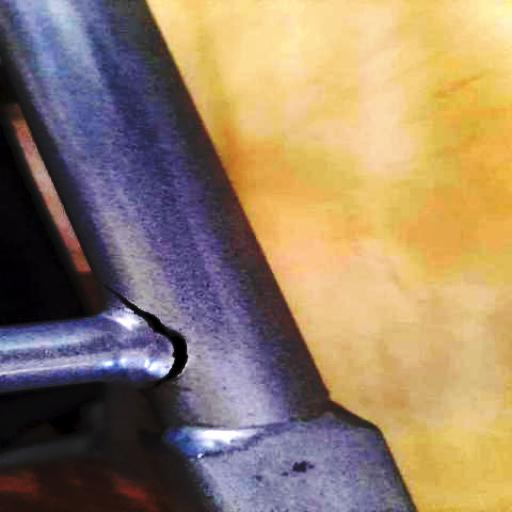crack: (89, 271, 200, 401)
